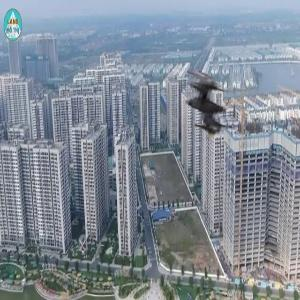drone: (163, 66, 244, 147)
